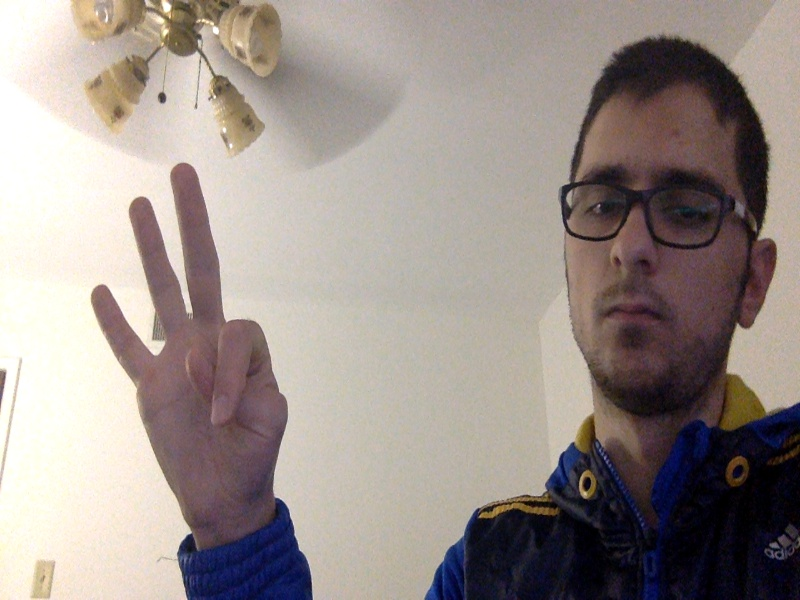3-hand: (88, 163, 288, 521)
